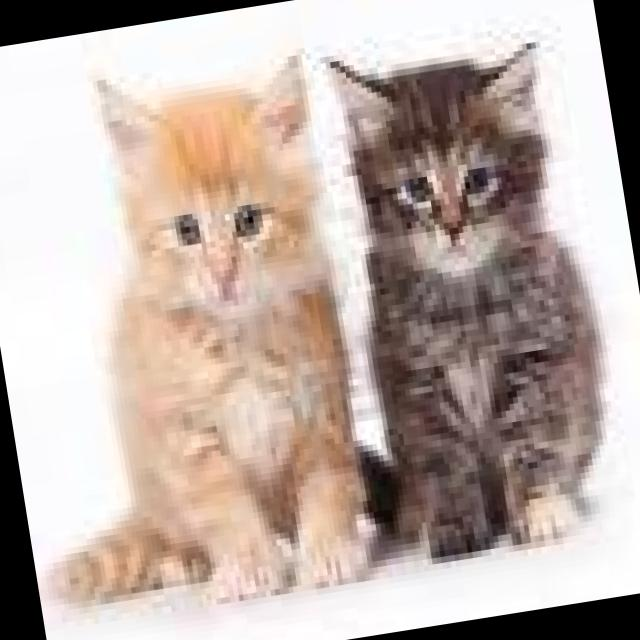animal: (0, 41, 393, 630), (301, 14, 635, 566)
